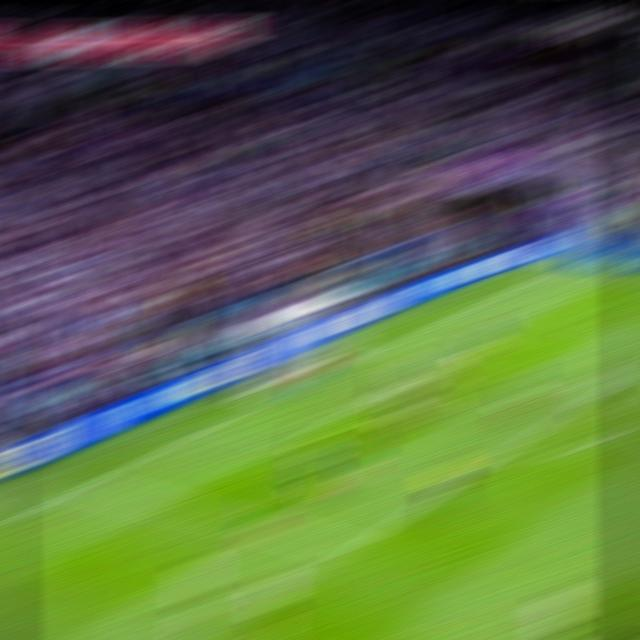bigarea_bottom_inner: (330, 537, 375, 559)
bigarea_bottom_outter: (64, 476, 107, 494)
bigarea_top_outter: (454, 299, 492, 311)
bottom_arc_area_intersection: (473, 449, 514, 468)
corner: (536, 265, 575, 272)
smallarea_bottom_inner: (278, 428, 318, 443)
smallarea_bottom_outter: (204, 415, 244, 427)
smallarea_top_inner: (438, 346, 477, 360)
smallarea_top_outter: (374, 338, 412, 349)
top_arc_area_intersection: (592, 375, 631, 391)
